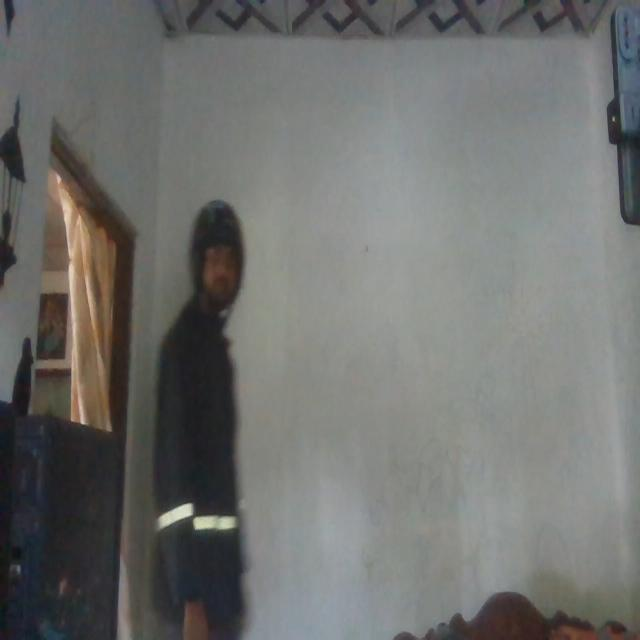Helmet_Wearer: (192, 192, 245, 330)
Jacket_Wearer: (156, 304, 245, 606)
Person: (166, 213, 272, 640)
